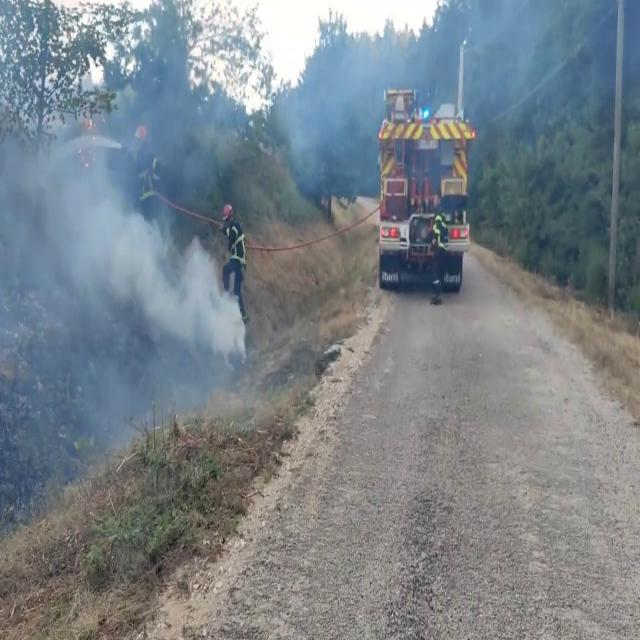Smoke: (0, 39, 248, 376)
